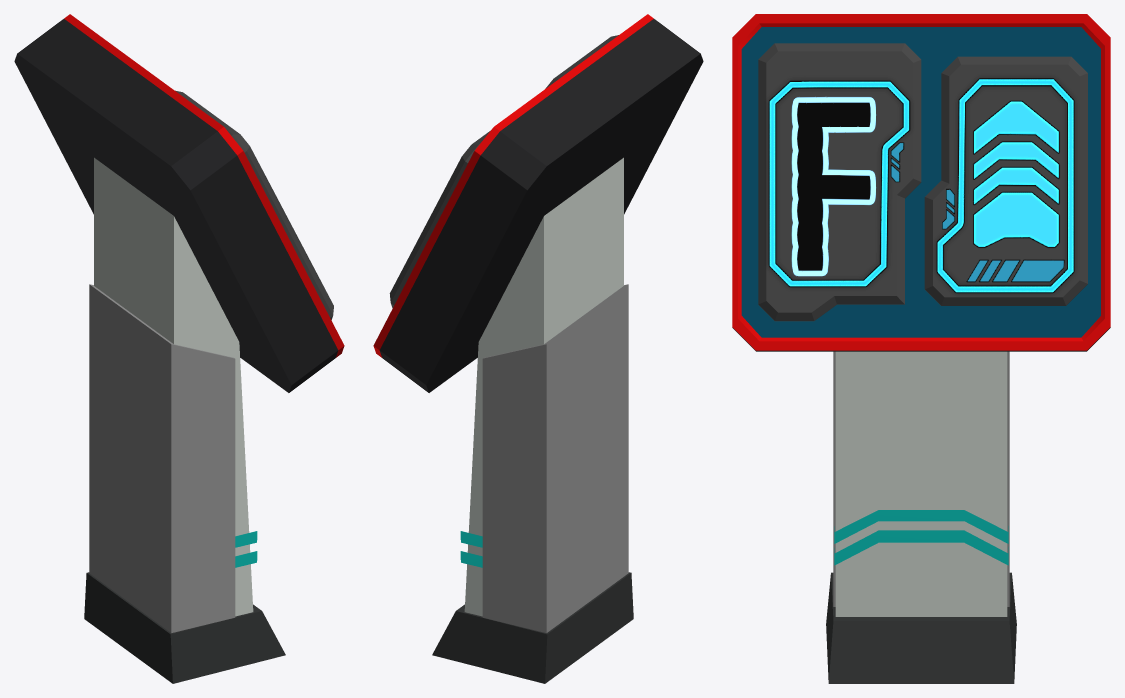
File: 01.elevator_btn.glb
The picture shows the model from 3 angles, left to right: view 1: azimuth 30°, elevation 25°; view 2: azimuth 150°, elevation 25°; view 3: azimuth 270°, elevation 25°; orthographic projection. The views are drawn at different scales.
Visible parts, largest first — view 1: btn.elevator; view 2: btn.elevator; view 3: btn.elevator.
Boxes of the visible parts, box(x1,y1,x2,y2) form: btn.elevator: box(14, 14, 344, 683); btn.elevator: box(373, 14, 703, 683); btn.elevator: box(732, 14, 1110, 683).
Size of what is drawn, in the model's own units: 0.6488 by 2.08 by 1.15.
Materials: 3 (3 with a texture image).
